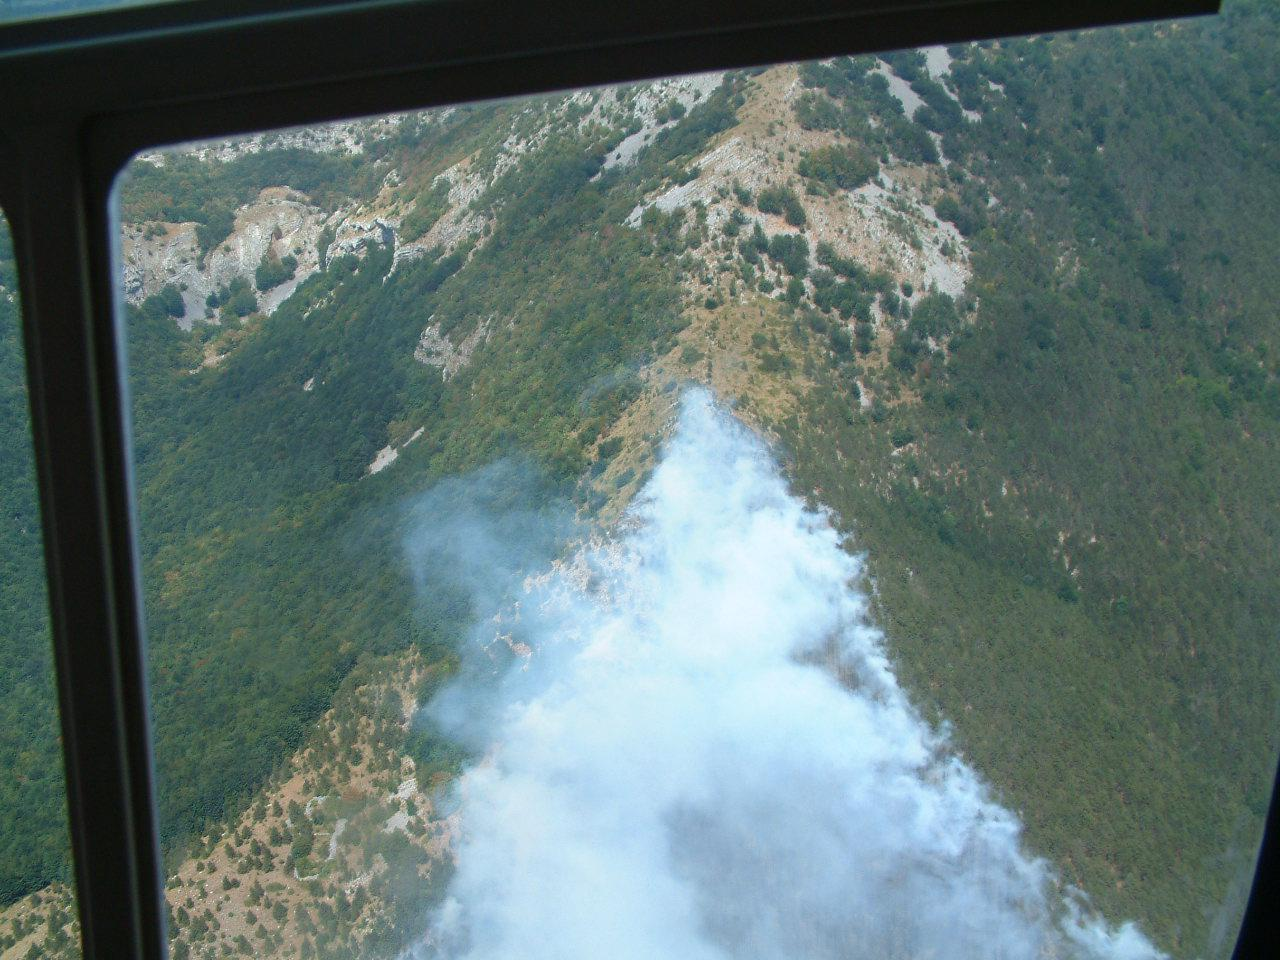Smoke: (424, 384, 1153, 960)
